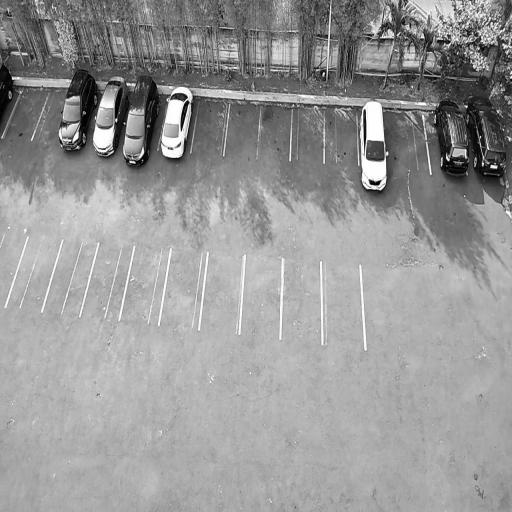Car: (114, 71, 165, 168), (52, 64, 103, 156), (84, 71, 133, 165), (463, 91, 510, 178), (157, 81, 199, 163), (432, 94, 472, 179), (358, 97, 391, 193), (0, 59, 19, 134)
Space Available: (41, 239, 99, 316), (81, 239, 135, 320), (120, 243, 172, 325), (6, 237, 62, 311), (158, 249, 208, 328), (321, 259, 365, 348), (199, 249, 246, 331), (239, 252, 283, 339), (279, 256, 323, 342), (2, 86, 49, 141), (0, 232, 28, 311), (224, 101, 260, 157), (324, 108, 359, 165), (192, 99, 228, 154), (257, 106, 292, 160), (290, 108, 324, 162), (31, 91, 65, 143)
